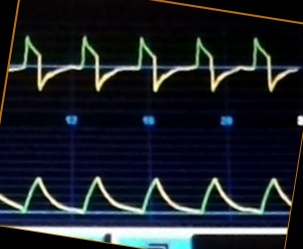Normal Flow: (11, 27, 296, 94)
Normal Volume: (1, 163, 290, 222)
